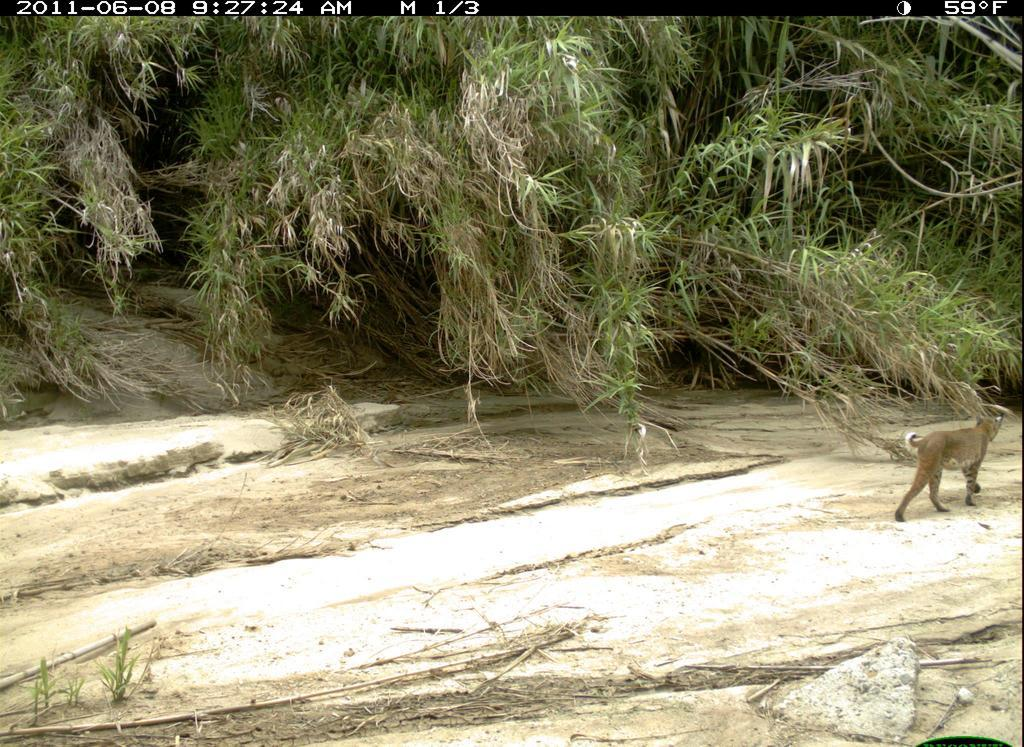bobcat: (889, 397, 1005, 533)
